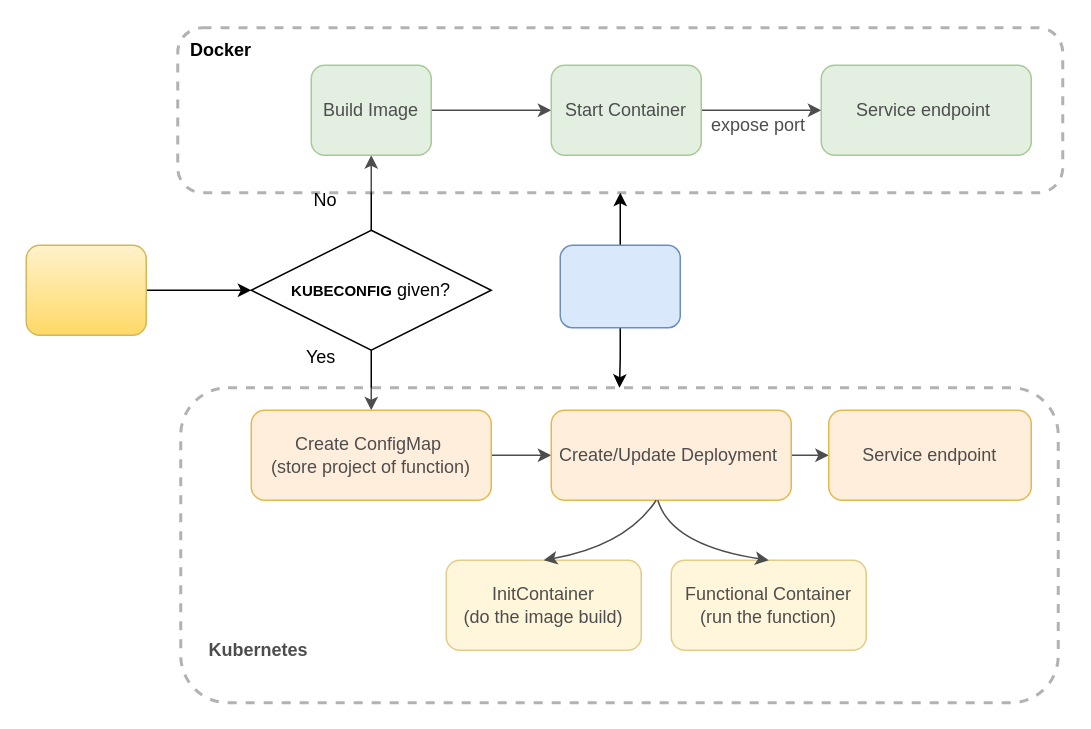
The diagram is 1091 pixels wide and 729 high, and some of its shapes have lost their labels. Here are the shapes that lost their labels. From the top down, the centre of each, then its label:
At [85,289]: "function code".
At [619,286]: "Packer".
